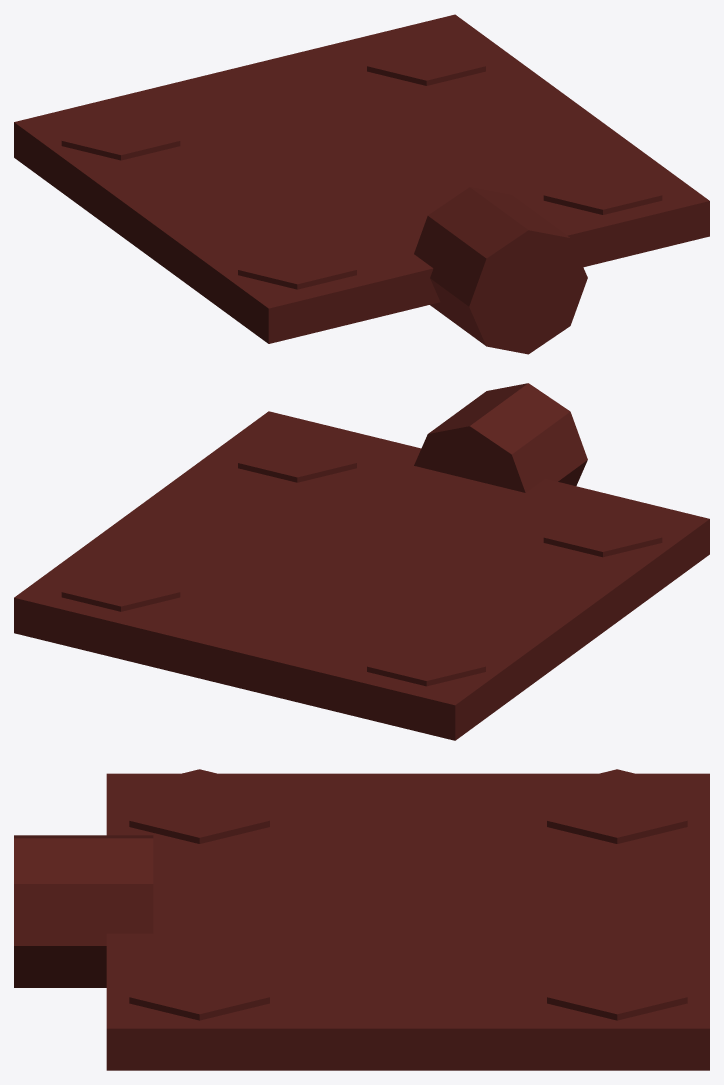
The model's file is Unit_SuicideDrone.obj.
3 renders of one model, top to bottom at view 1: azimuth 30°, elevation 25°; view 2: azimuth 150°, elevation 25°; view 3: azimuth 270°, elevation 25°, orthographic. The views are drawn at different scales.
Bounding box in the file's own units: 2.6 × 0.7 × 3.
